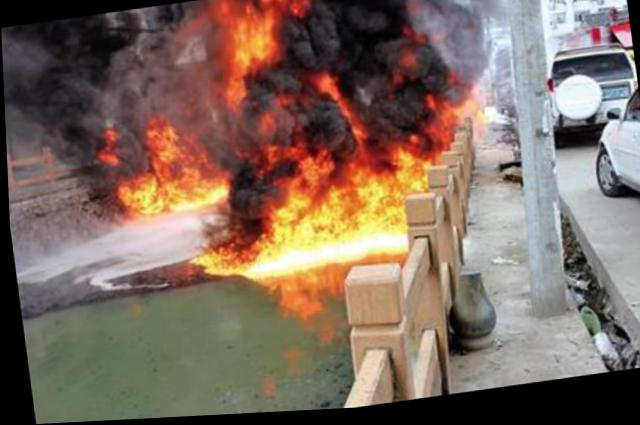fire: (260, 170, 411, 276), (222, 4, 288, 73), (161, 168, 225, 212), (146, 120, 186, 178), (117, 177, 162, 219), (395, 148, 430, 196), (296, 151, 334, 186), (192, 246, 233, 276), (234, 247, 269, 279), (224, 71, 251, 110), (256, 0, 311, 19), (343, 150, 379, 179)
